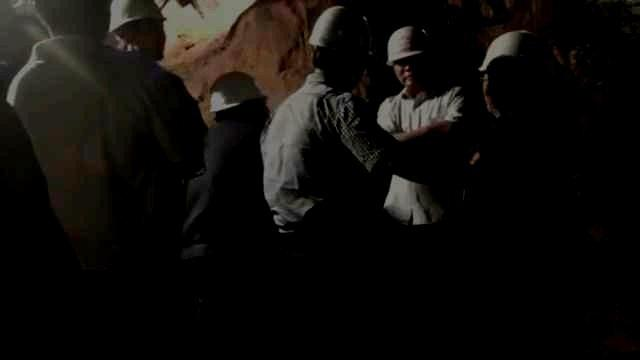helmet: (477, 31, 544, 114), (307, 5, 371, 84), (208, 71, 268, 137), (108, 1, 167, 61), (386, 25, 435, 86)
